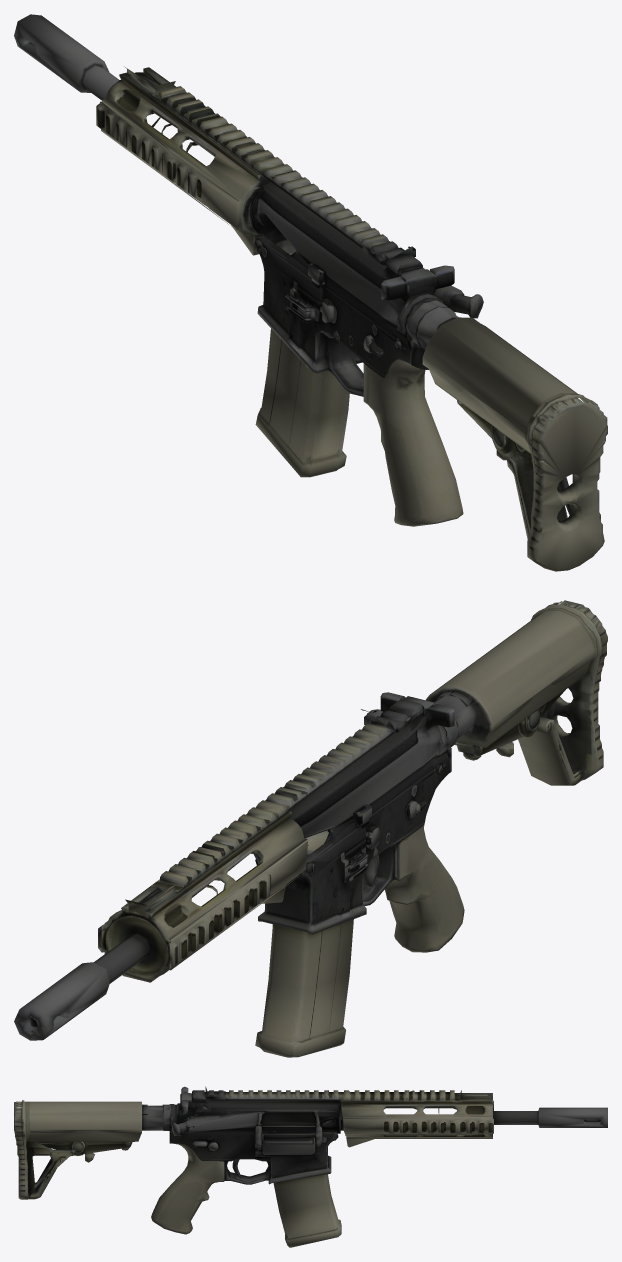
The picture shows the model from 3 angles, top to bottom: view 1: azimuth 30°, elevation 25°; view 2: azimuth 150°, elevation 25°; view 3: azimuth 270°, elevation 25°; orthographic projection. The views are drawn at different scales.
Visible parts, largest first — view 1: furniture, body, magazine; view 2: furniture, body, magazine; view 3: furniture, body, magazine.
Boxes of the visible parts, x1=… form: furniture: x1=96, y1=67, x2=607, y2=571; body: x1=14, y1=14, x2=483, y2=488; magazine: x1=255, y1=267, x2=363, y2=477; furniture: x1=98, y1=600, x2=607, y2=982; body: x1=14, y1=686, x2=491, y2=1040; magazine: x1=255, y1=846, x2=392, y2=1057; furniture: x1=14, y1=1090, x2=493, y2=1234; body: x1=133, y1=1086, x2=607, y2=1218; magazine: x1=230, y1=1149, x2=341, y2=1247.
Size of the model in its own units: 0.0973 by 0.2662 by 0.9382.
Materials: 2 (2 with a texture image).
